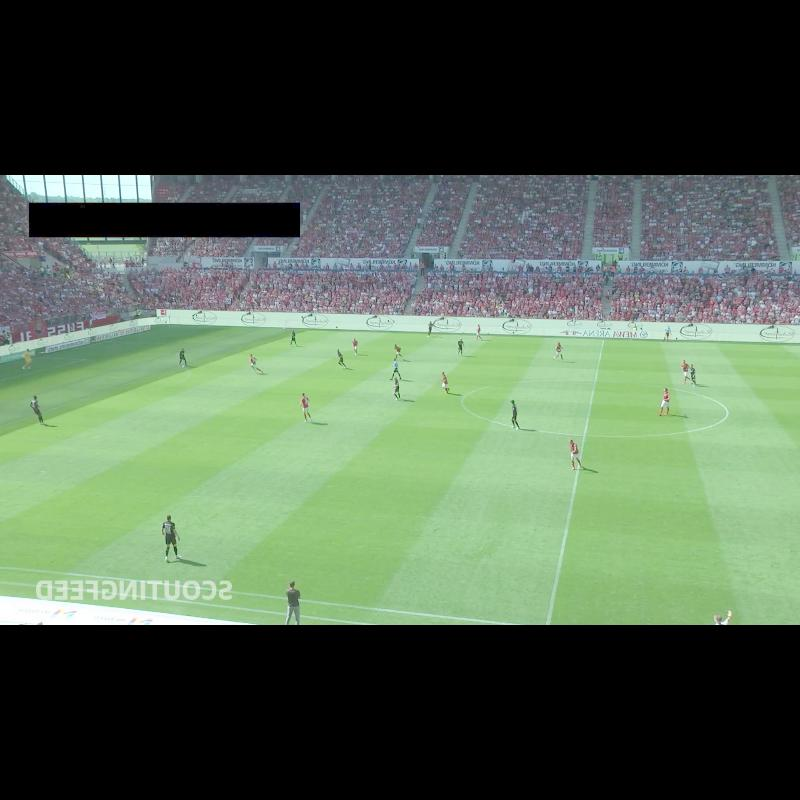cross_recipient_zone: (0, 342, 245, 428)
crossing_player_zone: (0, 436, 110, 491), (105, 326, 356, 349)
pitch: (0, 327, 800, 625)
